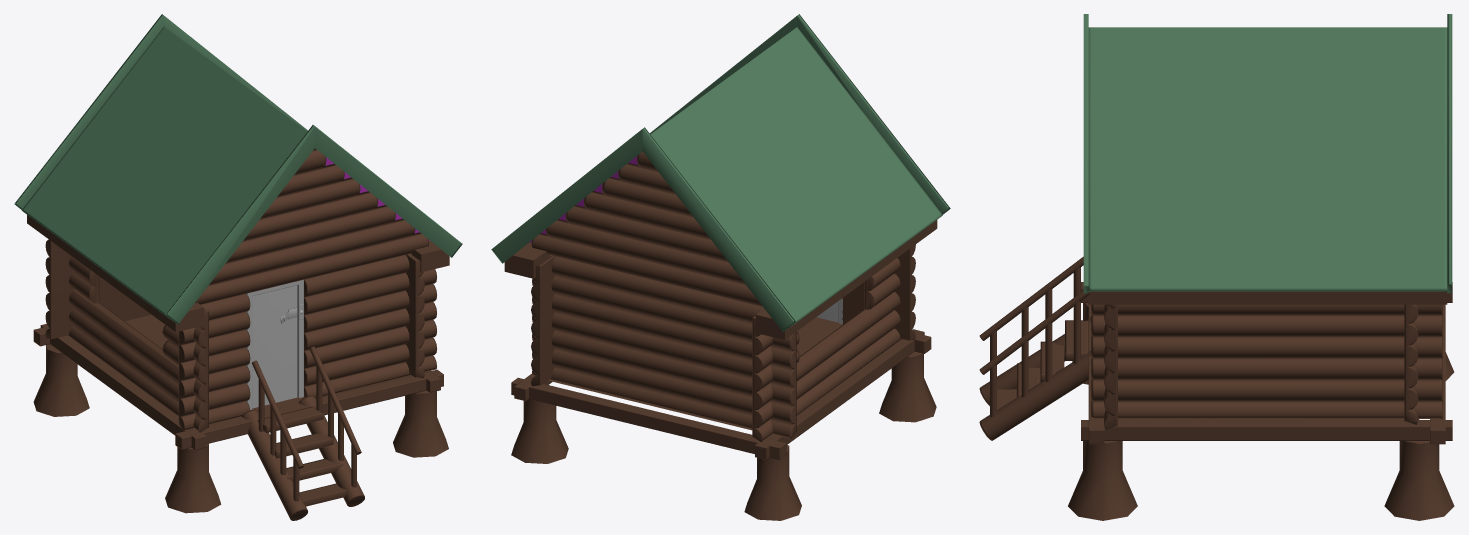
The model's file is SentryBox.fbx.
3 views of the same model, side by side, from view 1: azimuth 30°, elevation 25°; view 2: azimuth 150°, elevation 25°; view 3: azimuth 270°, elevation 25° (orthographic). The views are drawn at different scales.
Parts seen in each view (by area): view 1: SentryBox, Door; view 2: SentryBox; view 3: SentryBox.
Boxes of the visible parts, <box> form: SentryBox: <box>14,14,462,520</box>; Door: <box>252,285,297,408</box>; SentryBox: <box>491,14,950,520</box>; SentryBox: <box>979,14,1454,520</box>.
Size of the model in its own units: 5.19 by 5.93 by 6.
